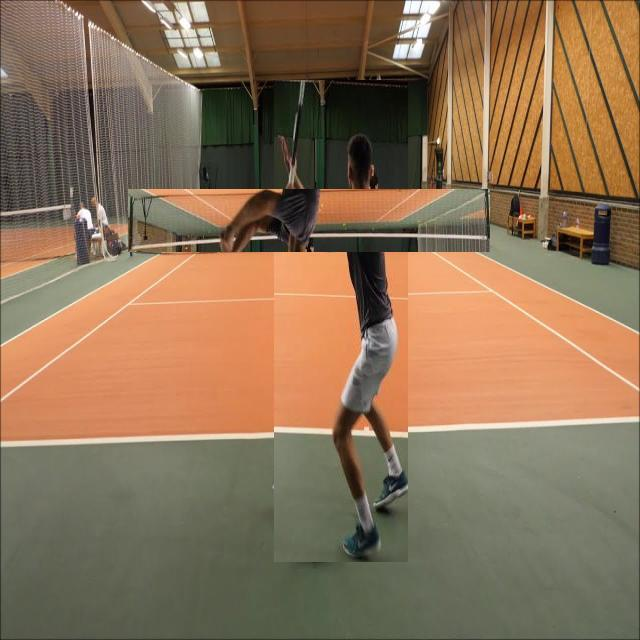court: (2, 226, 630, 492)
net: (128, 189, 490, 252)
player: (274, 80, 408, 562)
